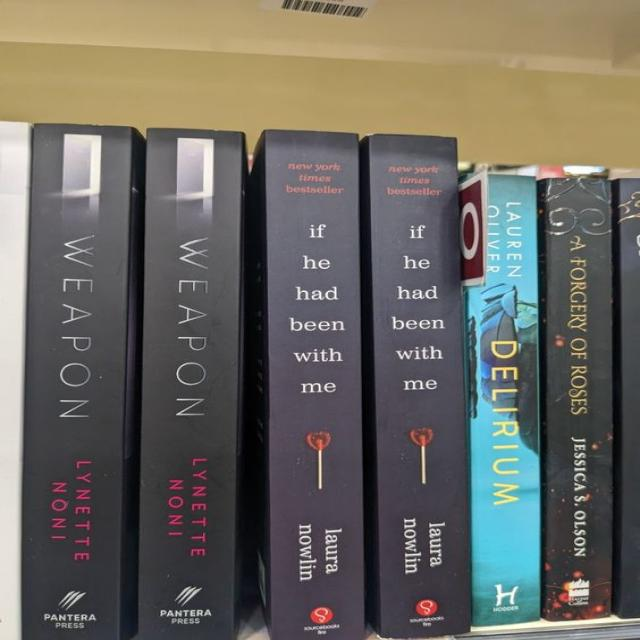book: (20, 123, 138, 639), (251, 130, 363, 639), (135, 128, 246, 639), (361, 134, 471, 637), (461, 171, 539, 628), (539, 179, 610, 620)
